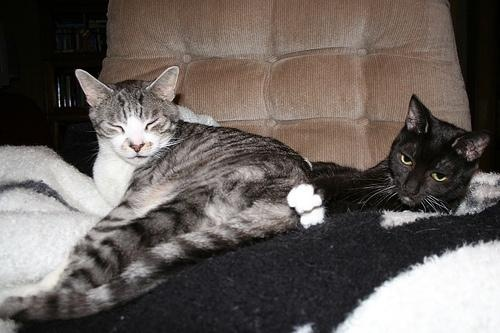cat: (1, 66, 307, 326), (286, 93, 491, 229)
